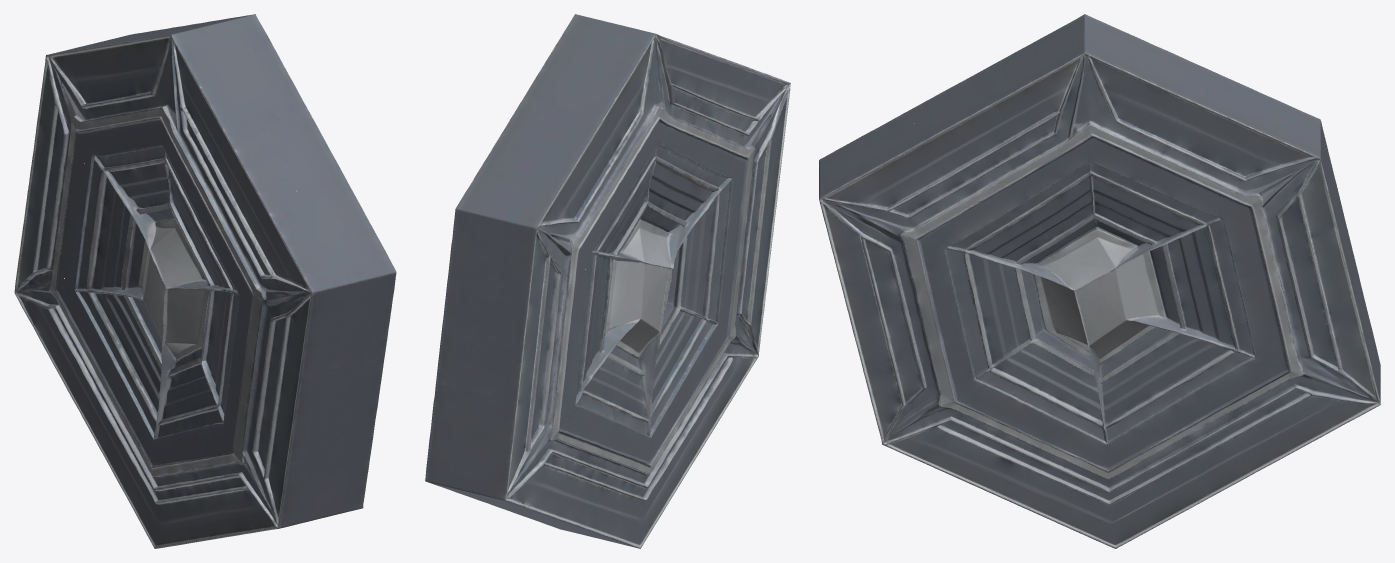
The picture shows the model from 3 angles, left to right: view 1: azimuth 30°, elevation 25°; view 2: azimuth 150°, elevation 25°; view 3: azimuth 270°, elevation 25°; orthographic projection. The views are drawn at different scales.
Visible parts, largest first — view 1: tripo_node_afcf955a-75e5-4dfe-8929-6994b2ba4a37; view 2: tripo_node_afcf955a-75e5-4dfe-8929-6994b2ba4a37; view 3: tripo_node_afcf955a-75e5-4dfe-8929-6994b2ba4a37.
Part boxes in pixels (x1,y1,x2,y2): tripo_node_afcf955a-75e5-4dfe-8929-6994b2ba4a37: [14, 14, 396, 548]; tripo_node_afcf955a-75e5-4dfe-8929-6994b2ba4a37: [425, 14, 790, 548]; tripo_node_afcf955a-75e5-4dfe-8929-6994b2ba4a37: [819, 14, 1380, 548].
Bounding box in the file's own units: 0.2107 × 0.9746 × 0.9999.
1 material, 1 textured.
